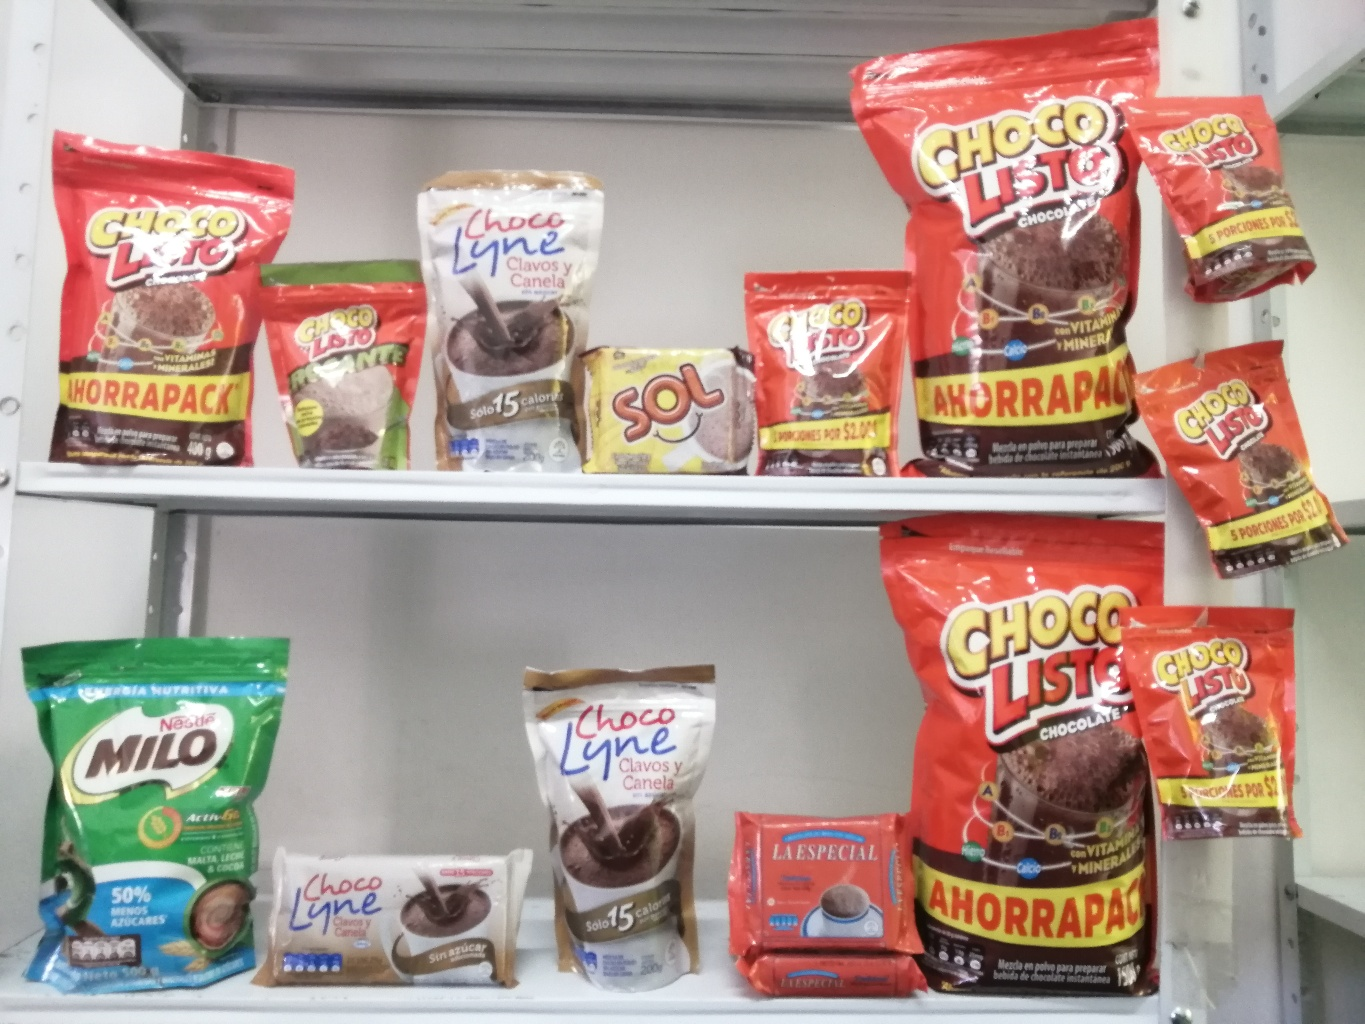COL0170102DYP10000: (243, 240, 424, 473)
COL0170103DYP1,500: (878, 517, 1166, 997)
COL0170103DYP10000: (742, 269, 907, 477)
COL0170103DYP40000: (52, 127, 292, 471)
COL0170205DYP50000: (19, 635, 279, 998)
